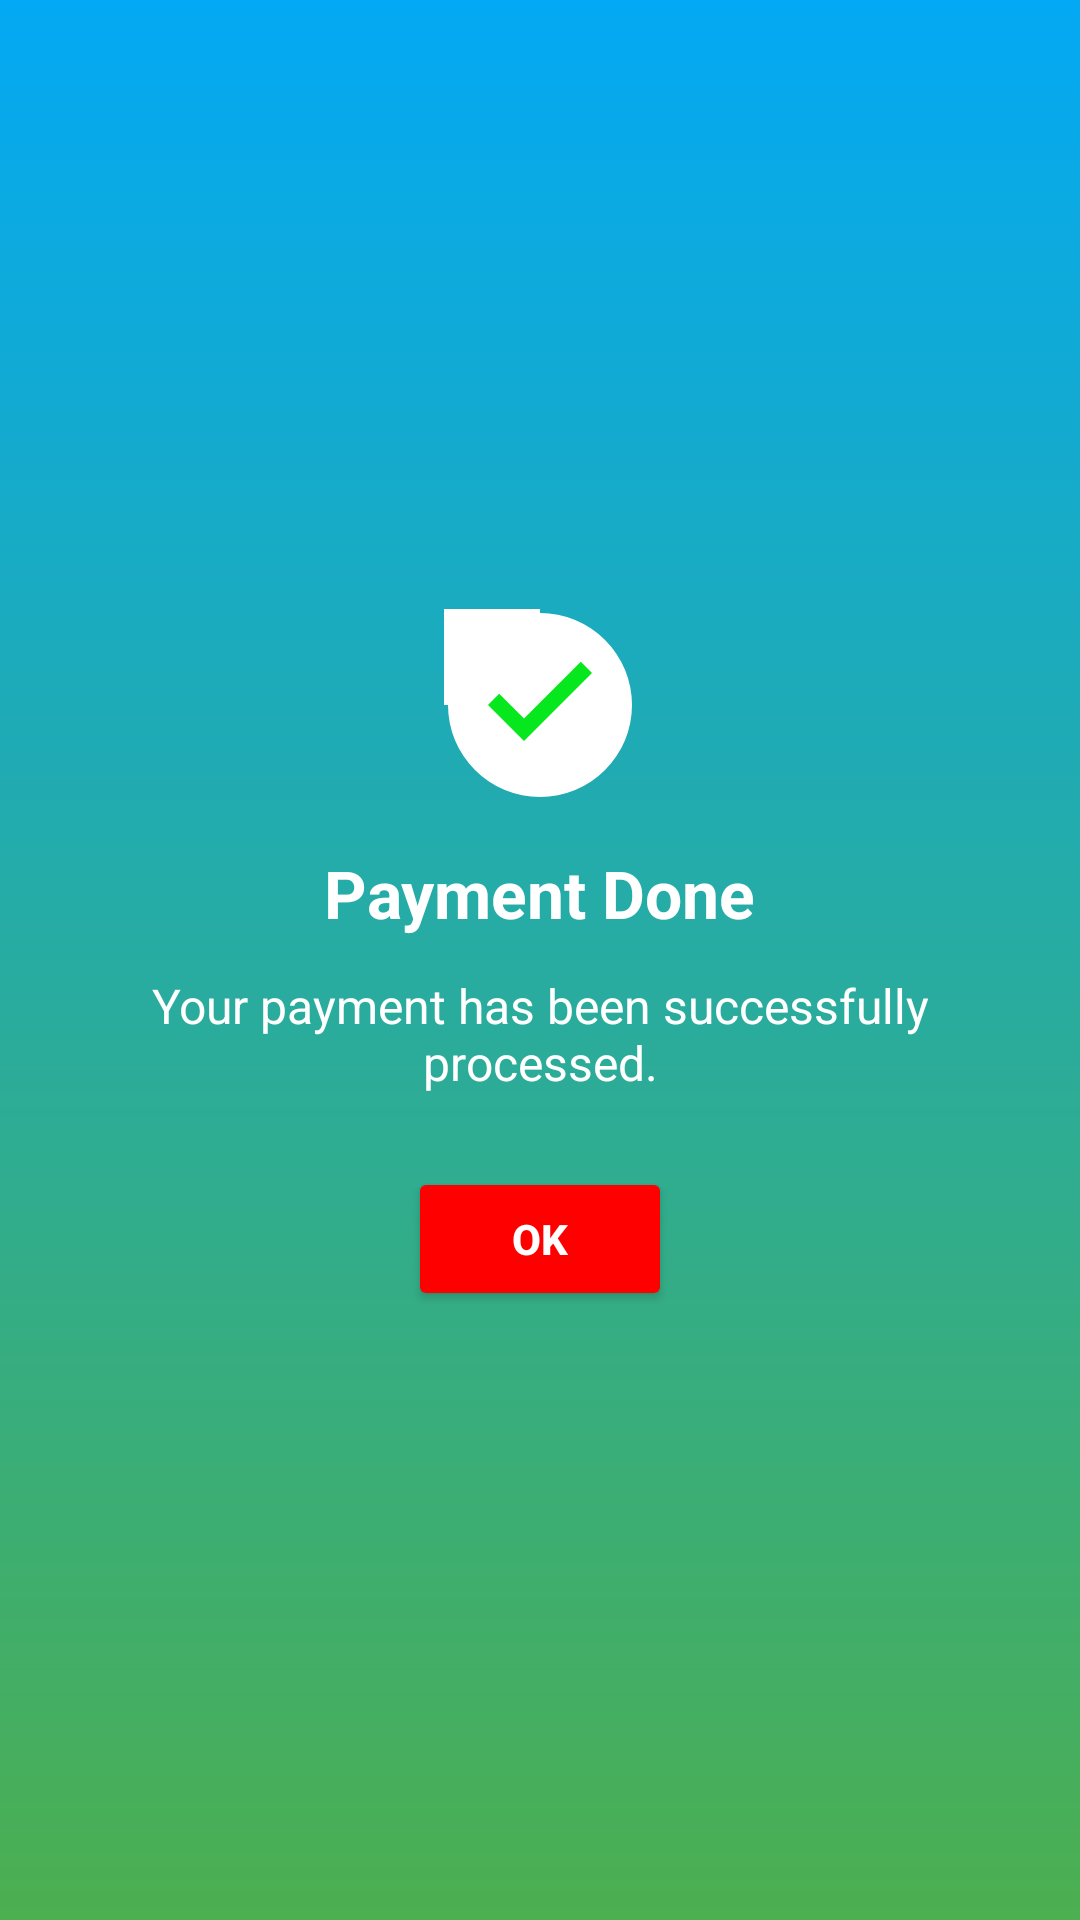

Icon bounding boxes for this 1080w x 1920h phone screenshot, format (x1, y1, x2, y2):
Payment Successful: (444, 609, 632, 797)
